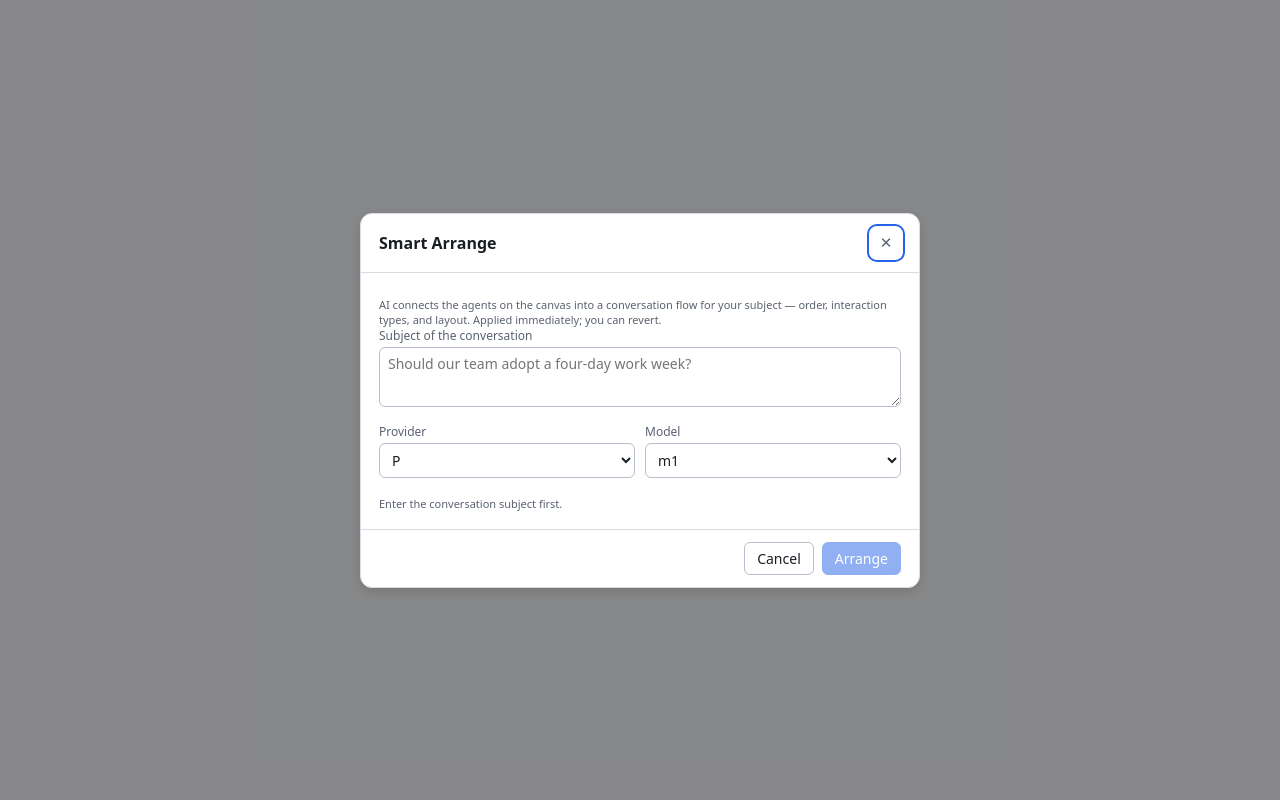
Test: SmartArrangeModal › applies the arrangement instantly and shows the applied summary with Revert
Type "Should we ship?" into the text box labelled "Subject of the conversation" at (640, 376), box [379,346,901,406]
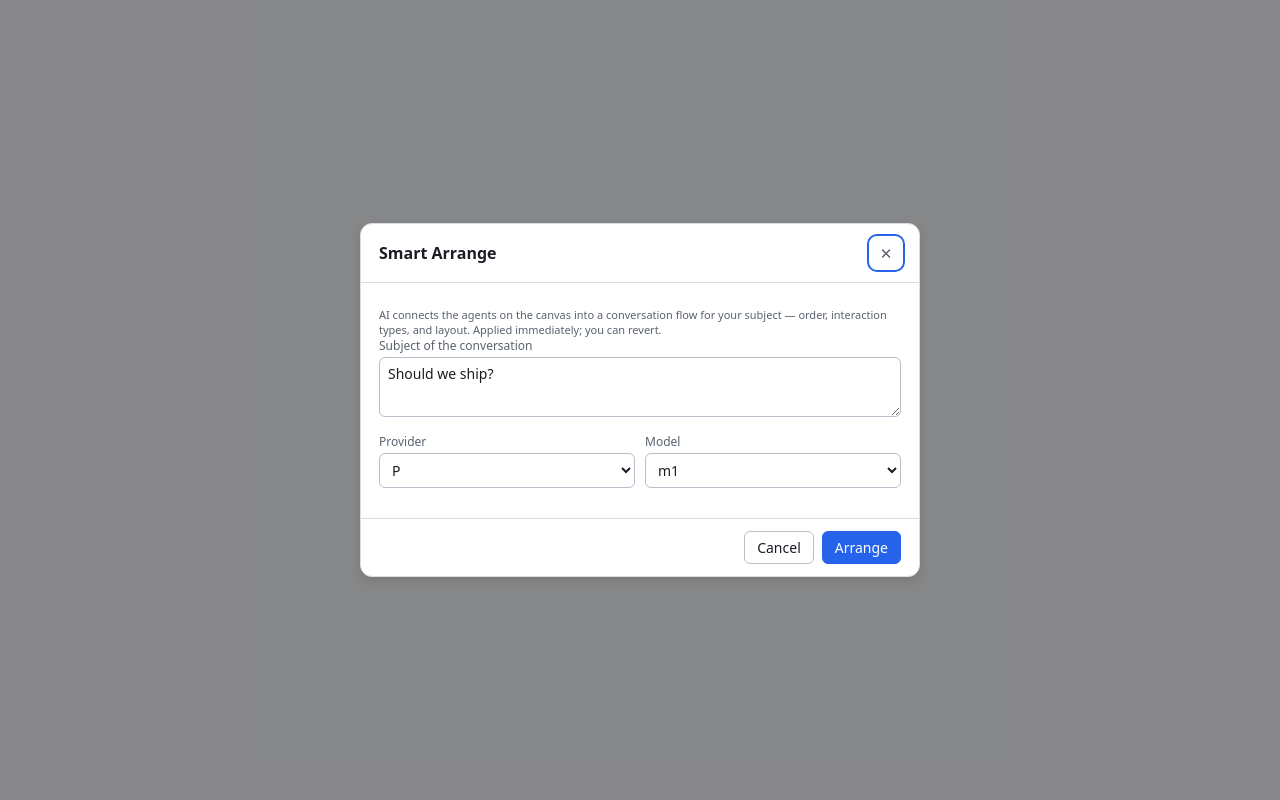
Click the button "Arrange" at (861, 548), box [822,531,901,564]
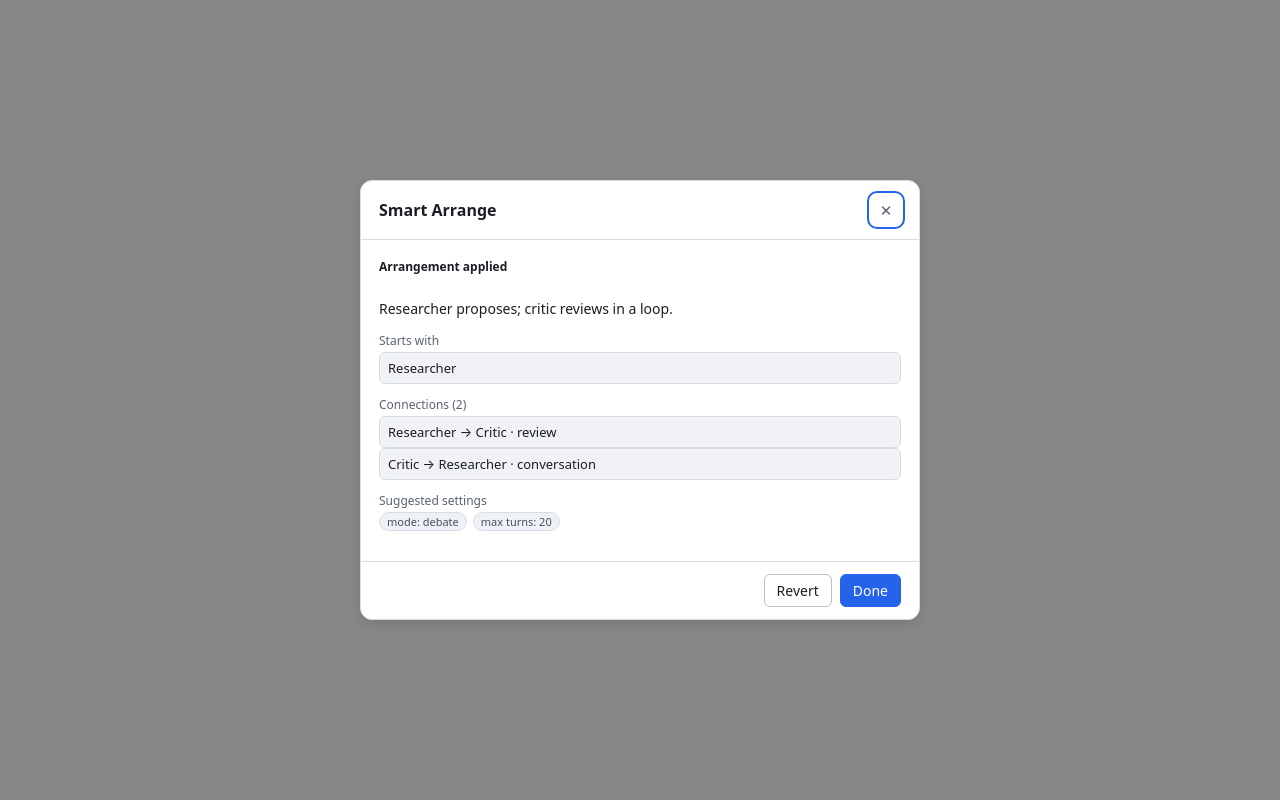
Now the text "Arrangement applied" is shown, box [379,258,507,275]
Now the text "Researcher proposes; critic reviews in a loop." is shown, box [379,299,673,318]
Now the button "Revert" is shown, box [764,574,832,607]
